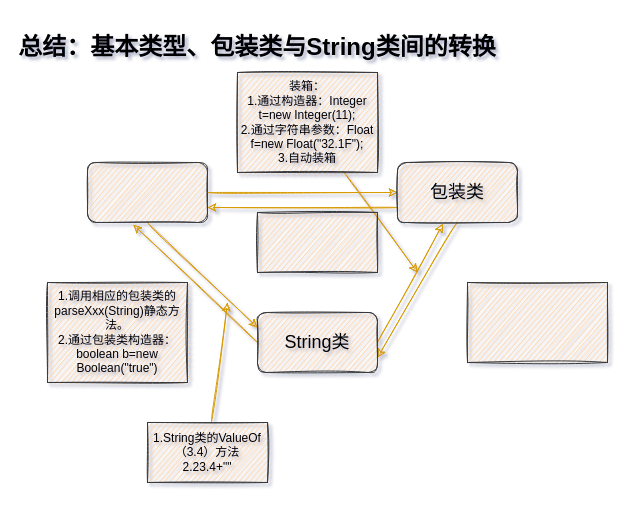
Some shapes in this 631 by 506 pixel diagram are drawn without their labels. The centre of each missing label's shape, as x and y in pixels:
1.包装类对象的toString()方法。 2.调用包装类的toString(形参）方法。: (x=537, y=322)
基本数据类型: (x=147, y=192)
拆箱： 1.通过包装类的方法：xxxValue(); 2.自动拆箱: (x=317, y=242)
